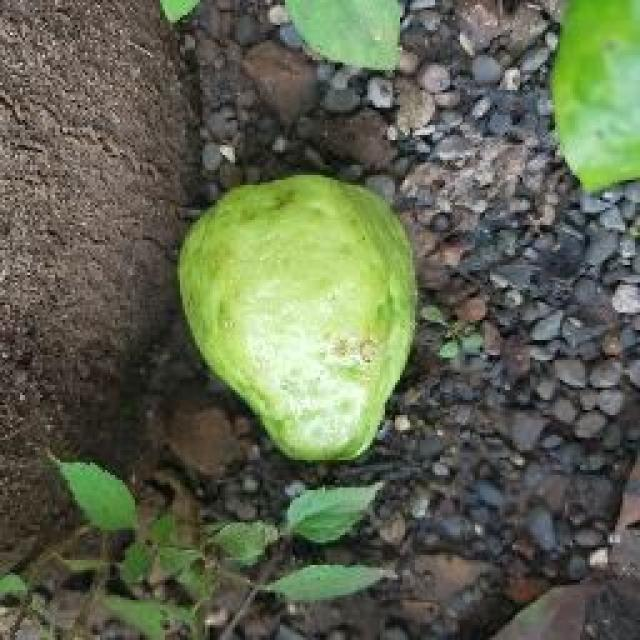Good_Guava: (175, 175, 415, 465)
